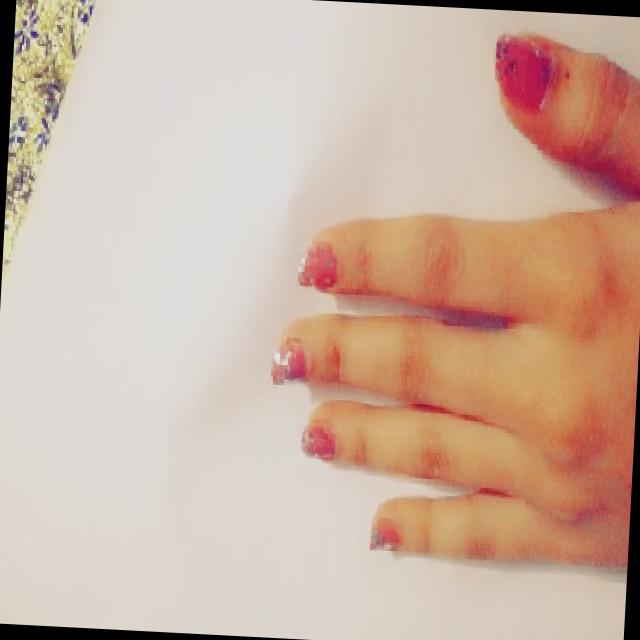Nail: (495, 34, 552, 111), (299, 244, 336, 287), (301, 422, 335, 461), (273, 343, 306, 382), (369, 518, 400, 551)
